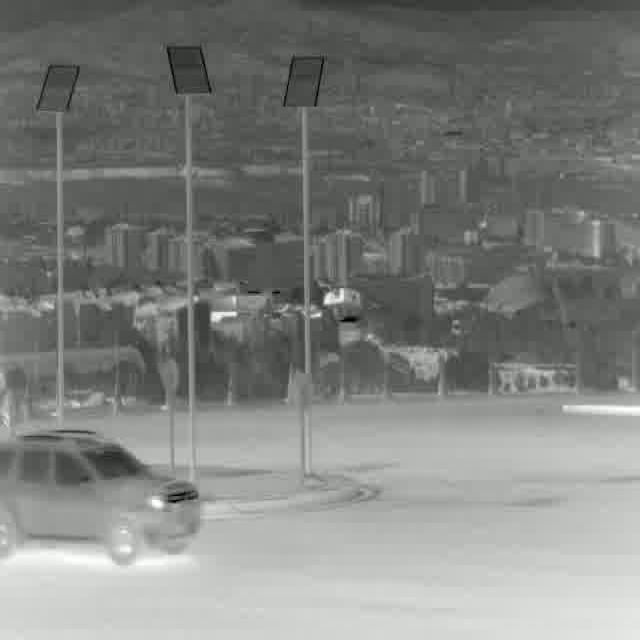Car: (0, 432, 202, 564)
